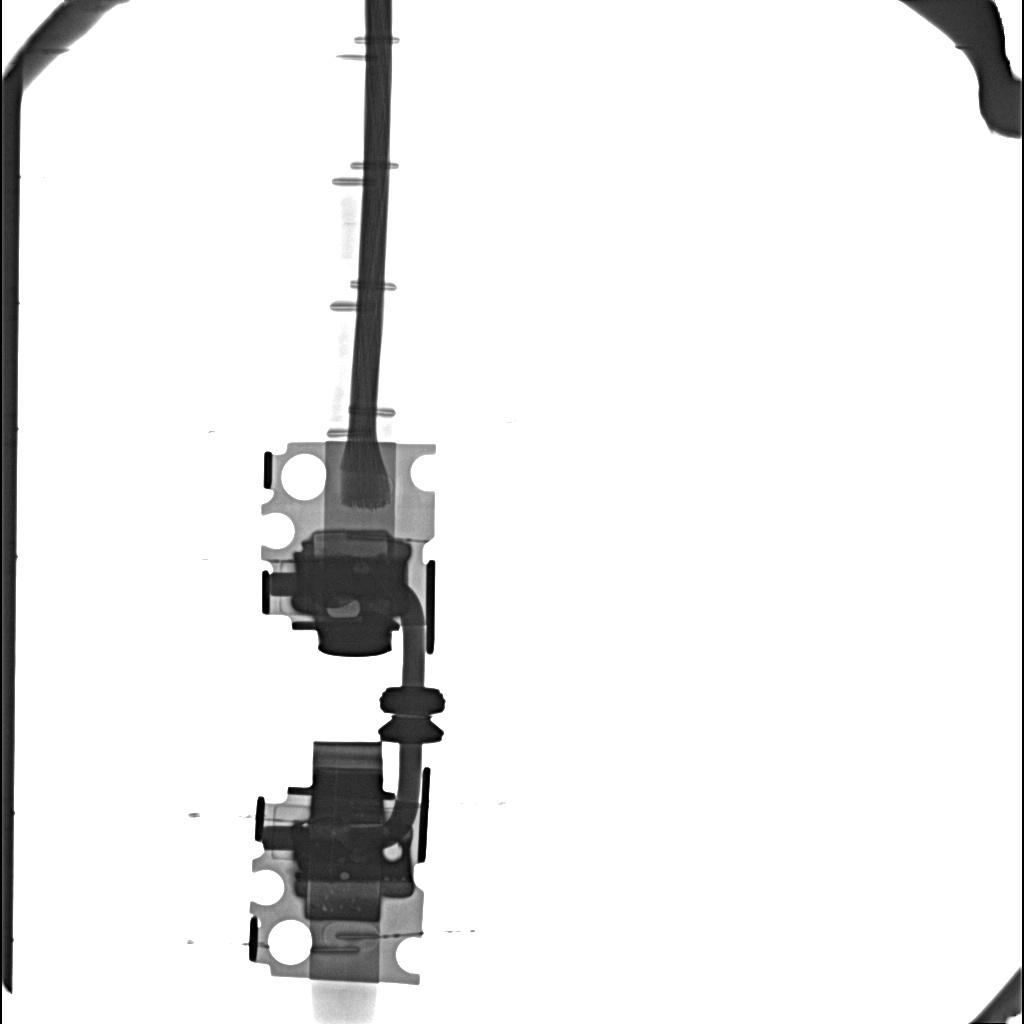PX: (303, 882, 382, 922), (311, 529, 390, 555)
QP: (325, 600, 360, 618)
SX: (292, 829, 410, 878), (296, 559, 404, 596)
